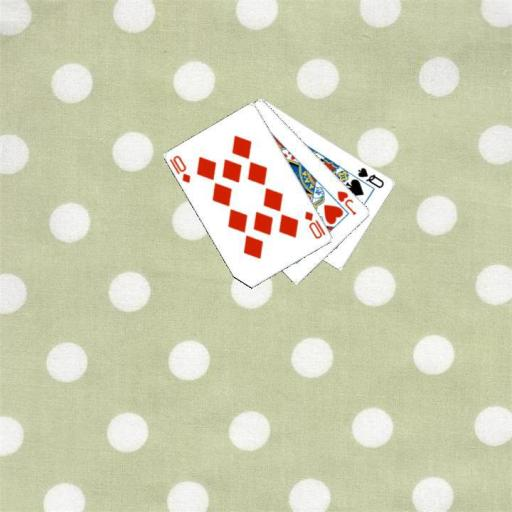10D: (166, 152, 192, 184), (302, 209, 327, 241)
JH: (335, 188, 359, 217)
QS: (355, 164, 385, 190)
